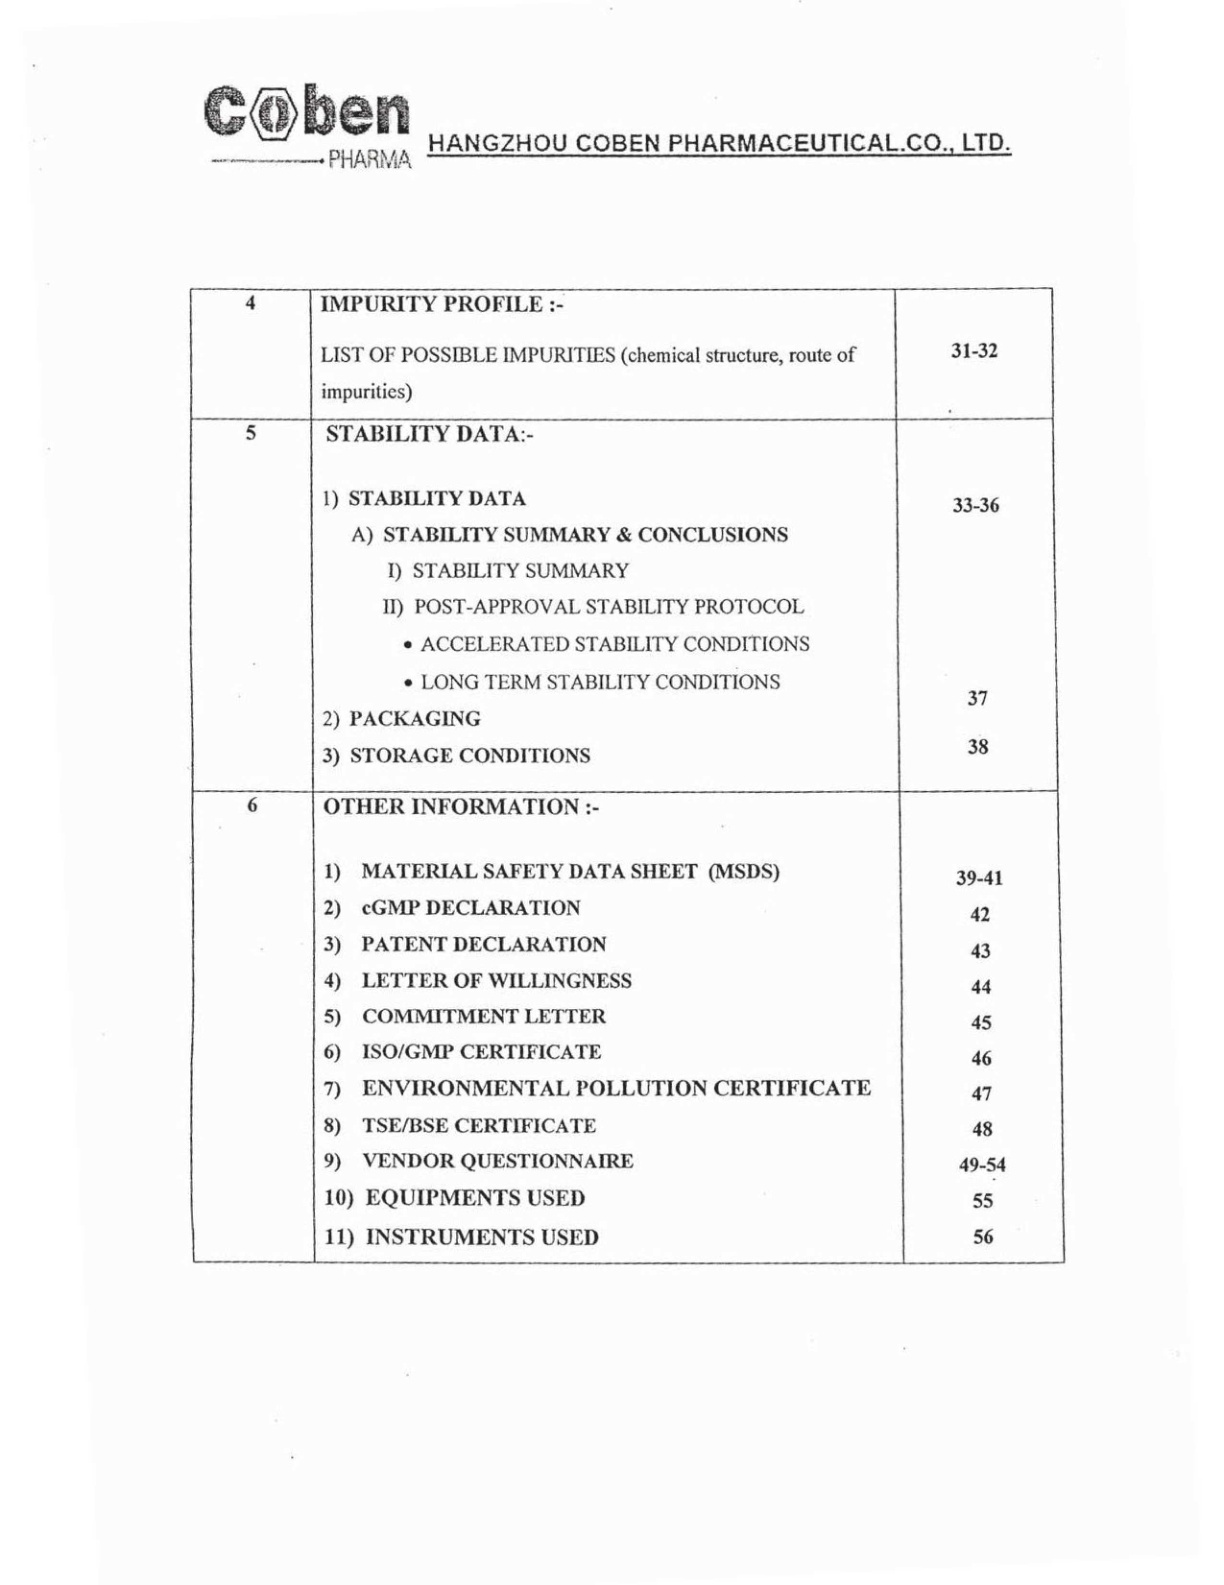full_lined: (166, 253, 1097, 1294)
